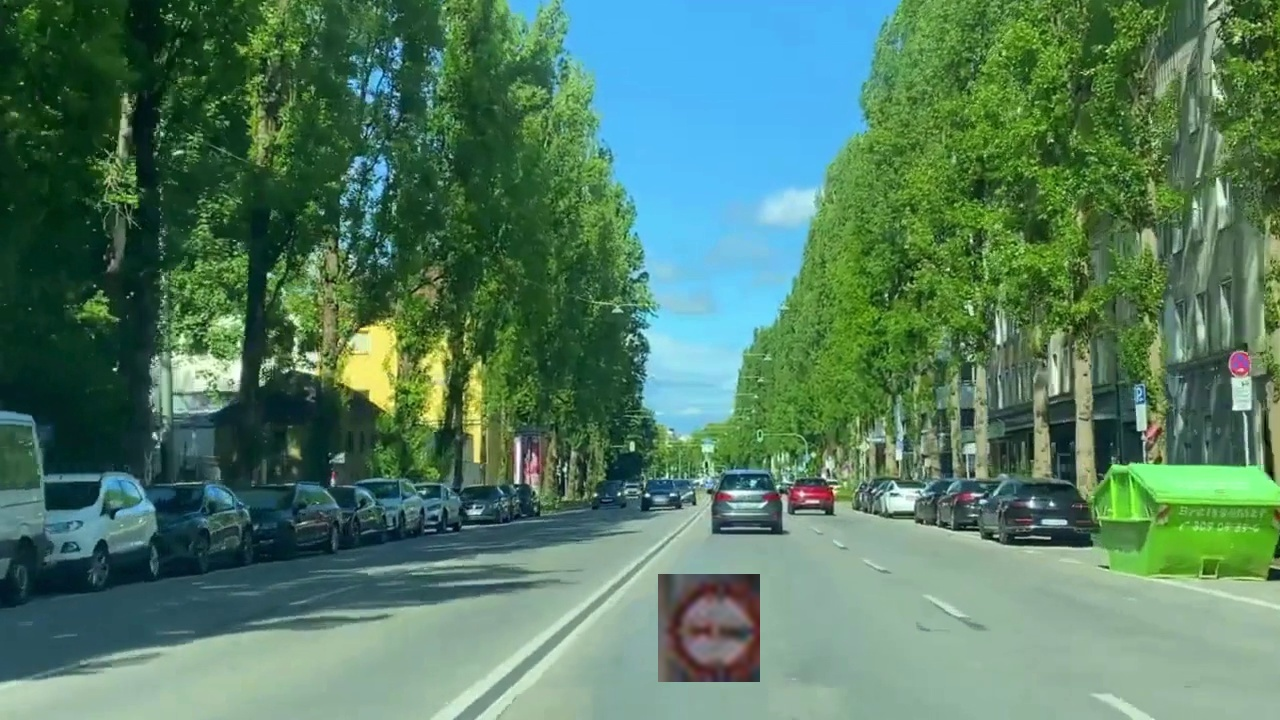No passing: (658, 574, 760, 682)
